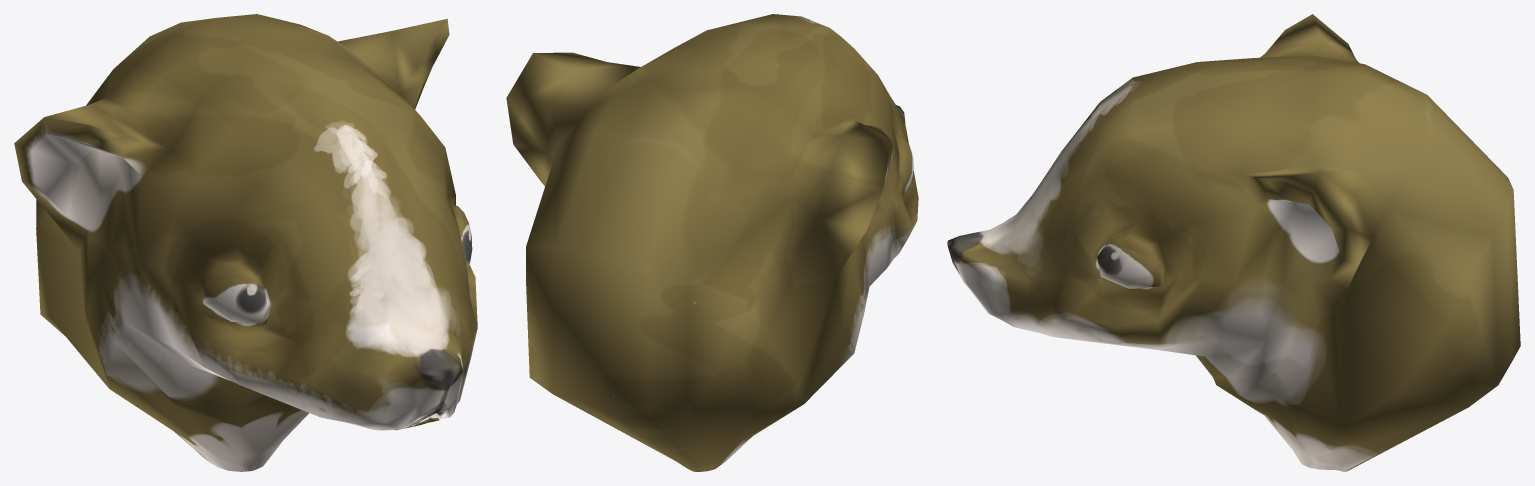
The model's file is Head_Ferret.fbx.
3 views of the same model, side by side, from view 1: azimuth 30°, elevation 25°; view 2: azimuth 150°, elevation 25°; view 3: azimuth 270°, elevation 25° (orthographic). The views are drawn at different scales.
Visible parts, largest first — view 1: Head_Furret_Low; view 2: Head_Furret_Low; view 3: Head_Furret_Low.
Boxes of the visible parts, <box> form: Head_Furret_Low: <box>14,14,477,471</box>; Head_Furret_Low: <box>506,14,918,471</box>; Head_Furret_Low: <box>947,14,1520,471</box>.
Bounding box in the file's own units: 54.05 × 53.61 × 70.5.
